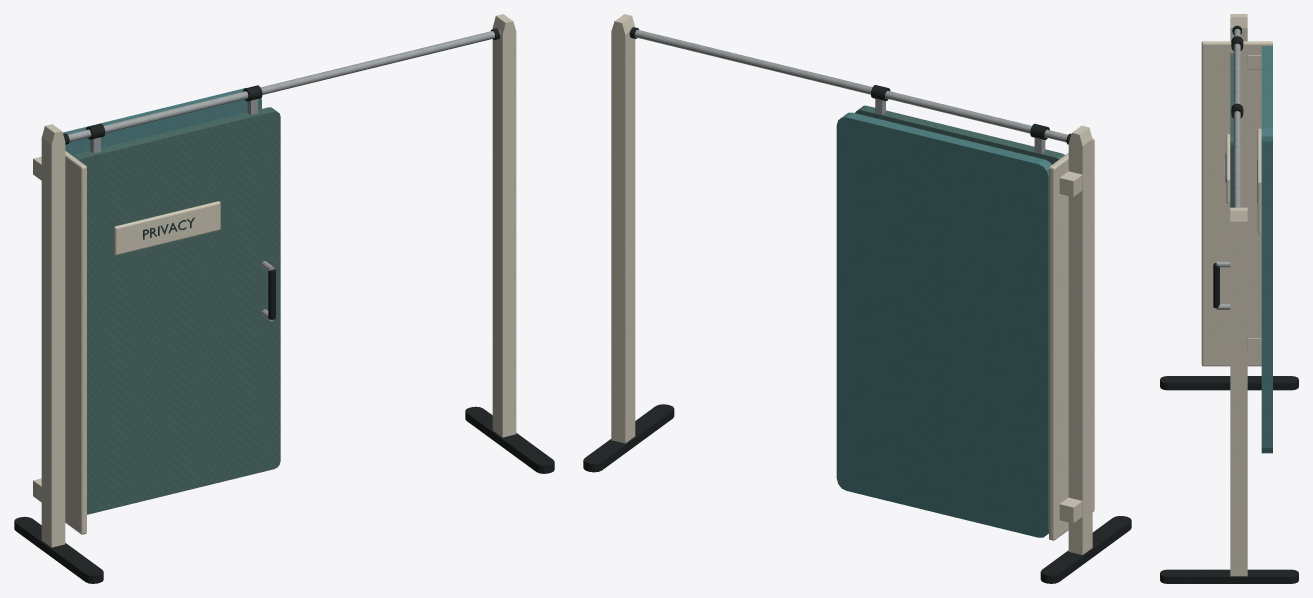
File: AST-MED-001__open.glb
3 renders of one model, left to right at view 1: azimuth 30°, elevation 25°; view 2: azimuth 150°, elevation 25°; view 3: azimuth 270°, elevation 25°, orthographic. The views are drawn at different scales.
Parts seen in each view (by area): view 1: EXPORT_opaque_sliding_privacy_field, EXPORT_left_rounded_support_post, EXPORT_right_rounded_support_post, EXPORT_left_rounded_return_nose, EXPORT_continuous_exposed_slider_rod, EXPORT_fixed_quiet_arrival_return, EXPORT_privacy_raised_semantic_band, EXPORT_right_splayed_contact_foot, EXPORT_left_splayed_contact_foot; view 2: EXPORT_fixed_quiet_arrival_return, EXPORT_right_rounded_support_post, EXPORT_left_rounded_support_post, EXPORT_left_rounded_return_nose, EXPORT_continuous_exposed_slider_rod, EXPORT_opaque_sliding_privacy_field, EXPORT_left_splayed_contact_foot, EXPORT_right_splayed_contact_foot; view 3: EXPORT_left_rounded_return_nose, EXPORT_right_rounded_support_post, EXPORT_fixed_quiet_arrival_return, EXPORT_right_splayed_contact_foot, EXPORT_left_splayed_contact_foot, EXPORT_continuous_exposed_slider_rod, EXPORT_opaque_sliding_privacy_field, EXPORT_care_arrival_relief_plaque, EXPORT_left_rounded_support_post, EXPORT_privacy_raised_semantic_band, EXPORT_privacy_continuous_pull_grip, EXPORT_lower_return_support_bracket (+1 smaller).
Part boxes in pixels (x1,y1,x2,y2): EXPORT_opaque_sliding_privacy_field: (73,107,280,514); EXPORT_left_rounded_support_post: (41,124,65,547); EXPORT_right_rounded_support_post: (492,14,516,437); EXPORT_left_rounded_return_nose: (65,151,86,534); EXPORT_continuous_exposed_slider_rod: (68,30,500,141); EXPORT_fixed_quiet_arrival_return: (63,88,261,155); EXPORT_privacy_raised_semantic_band: (114,201,220,255); EXPORT_right_splayed_contact_foot: (465,406,554,473); EXPORT_left_splayed_contact_foot: (14,516,103,583); EXPORT_fixed_quiet_arrival_return: (836,112,1051,537); EXPORT_right_rounded_support_post: (611,14,635,443); EXPORT_left_rounded_support_post: (1068,125,1092,554); EXPORT_left_rounded_return_nose: (1049,138,1094,540); EXPORT_continuous_exposed_slider_rod: (629,29,1067,142); EXPORT_opaque_sliding_privacy_field: (855,105,1064,164); EXPORT_left_splayed_contact_foot: (1040,516,1131,583); EXPORT_right_splayed_contact_foot: (583,404,674,472); EXPORT_left_rounded_return_nose: (1201,41,1272,366); EXPORT_right_rounded_support_post: (1230,207,1247,576); EXPORT_fixed_quiet_arrival_return: (1261,46,1272,453); EXPORT_right_splayed_contact_foot: (1160,569,1298,583); EXPORT_left_splayed_contact_foot: (1160,376,1298,390); EXPORT_continuous_exposed_slider_rod: (1234,28,1240,207); EXPORT_opaque_sliding_privacy_field: (1230,53,1233,207); EXPORT_care_arrival_relief_plaque: (1257,128,1261,233); EXPORT_left_rounded_support_post: (1230,14,1247,41); EXPORT_privacy_raised_semantic_band: (1226,134,1230,203); EXPORT_privacy_continuous_pull_grip: (1213,263,1219,308); EXPORT_lower_return_support_bracket: (1247,338,1261,352).
Size of the model in its own units: 2.74 by 2.36 by 0.8.
Materials: 6 (6 with a texture image).
